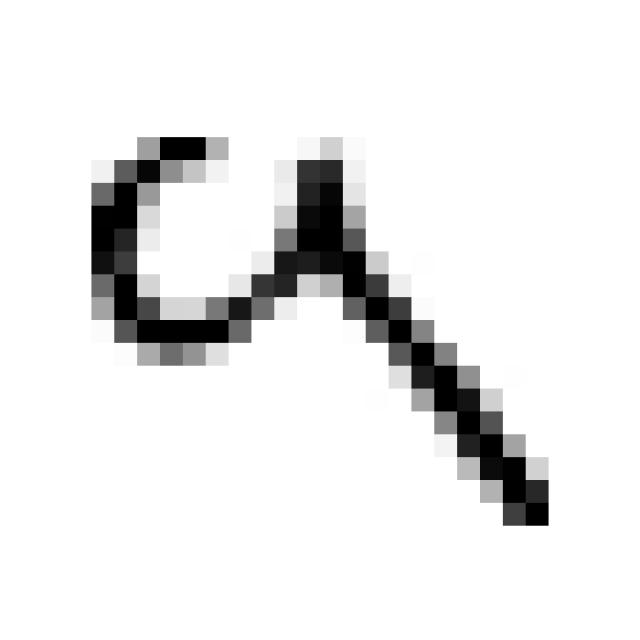9 -nine-: (62, 103, 565, 548)
